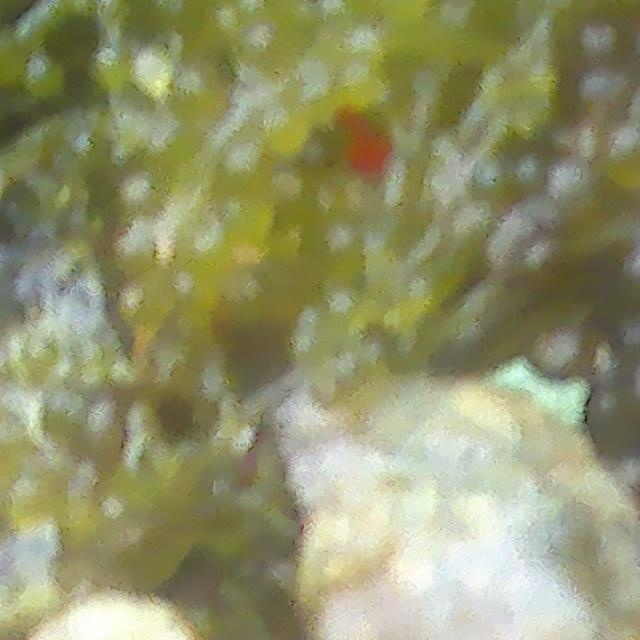SeaGrape: (534, 337, 597, 385)
